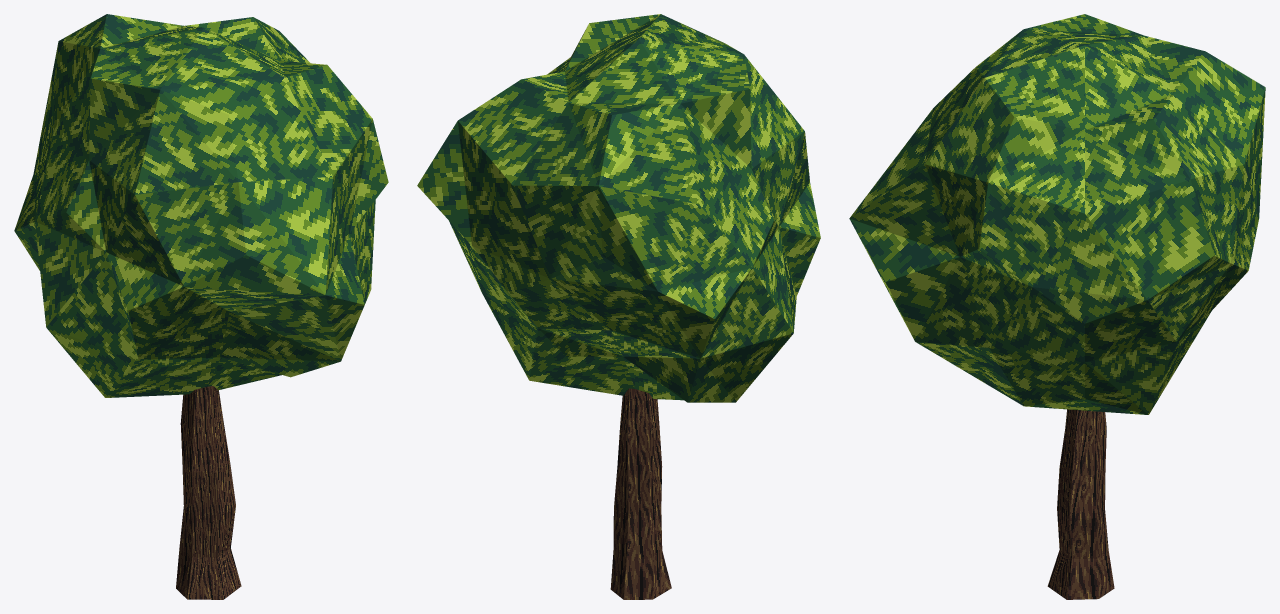
Rendered from tree.glb.
3 renders of one model, left to right at view 1: azimuth 30°, elevation 25°; view 2: azimuth 150°, elevation 25°; view 3: azimuth 270°, elevation 25°, orthographic. The views are drawn at different scales.
Visible parts, largest first — view 1: Leaves, Trunk; view 2: Leaves, Trunk; view 3: Leaves, Trunk.
Part boxes in pixels (<box>): Leaves: <box>14,14,388,397</box>; Trunk: <box>176,386,241,599</box>; Leaves: <box>417,14,820,402</box>; Trunk: <box>610,388,671,599</box>; Leaves: <box>849,14,1265,414</box>; Trunk: <box>1047,409,1114,599</box>.
Bounding box in the file's own units: 2.16 × 3.5 × 2.43.
Materials: 2 (2 with a texture image).
